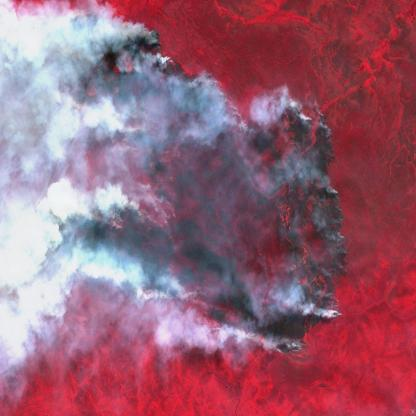fire: (45, 0, 355, 365)
